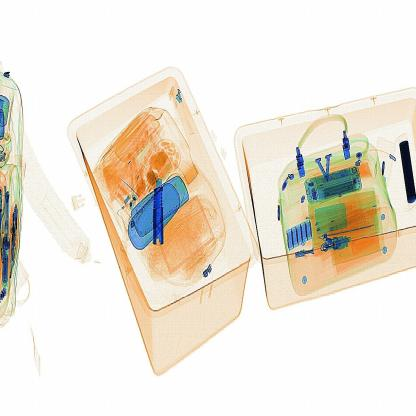pliers: (148, 168, 172, 260)
